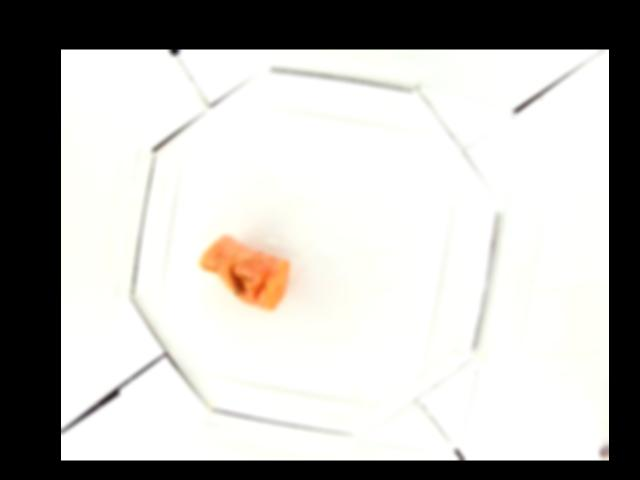Carrot: (200, 234, 289, 308)
